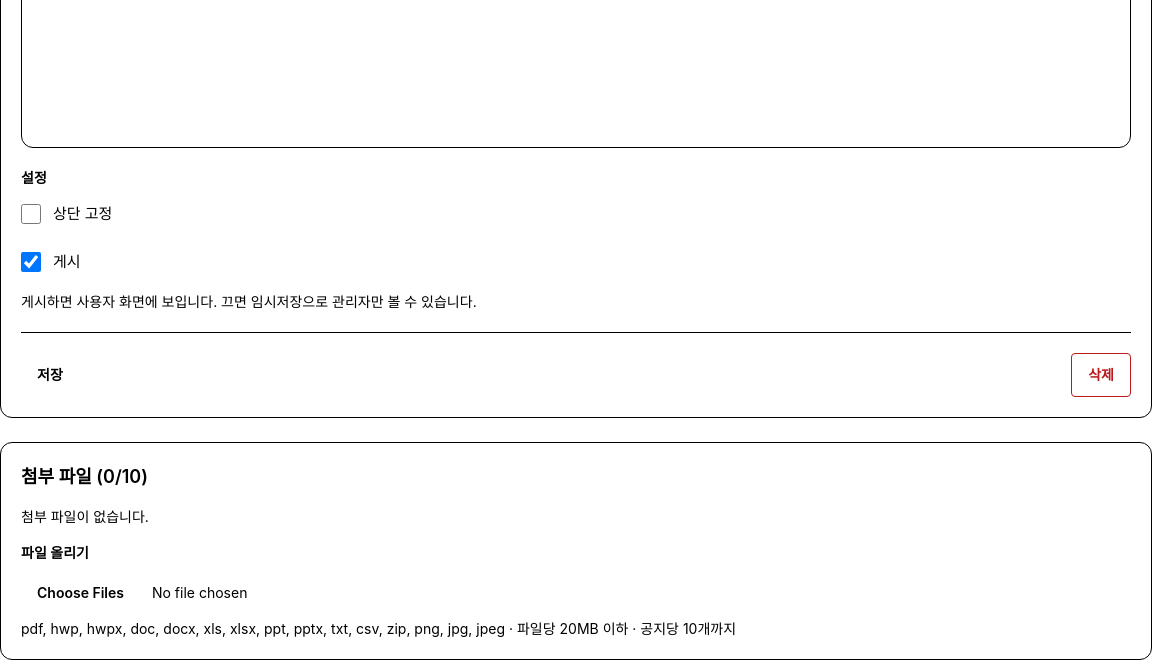
Test: NoticeForm › 삭제는 확인 후 액션을 부르고, 실패하면 문구를 보여 준다
The width and height of the screenshot is (1152, 660).
(page scrolled)
What coordinates should you click on to do the following:
click the button "삭제"
I would click on:
 (1101, 375)
Its box is [1071,353,1131,397].
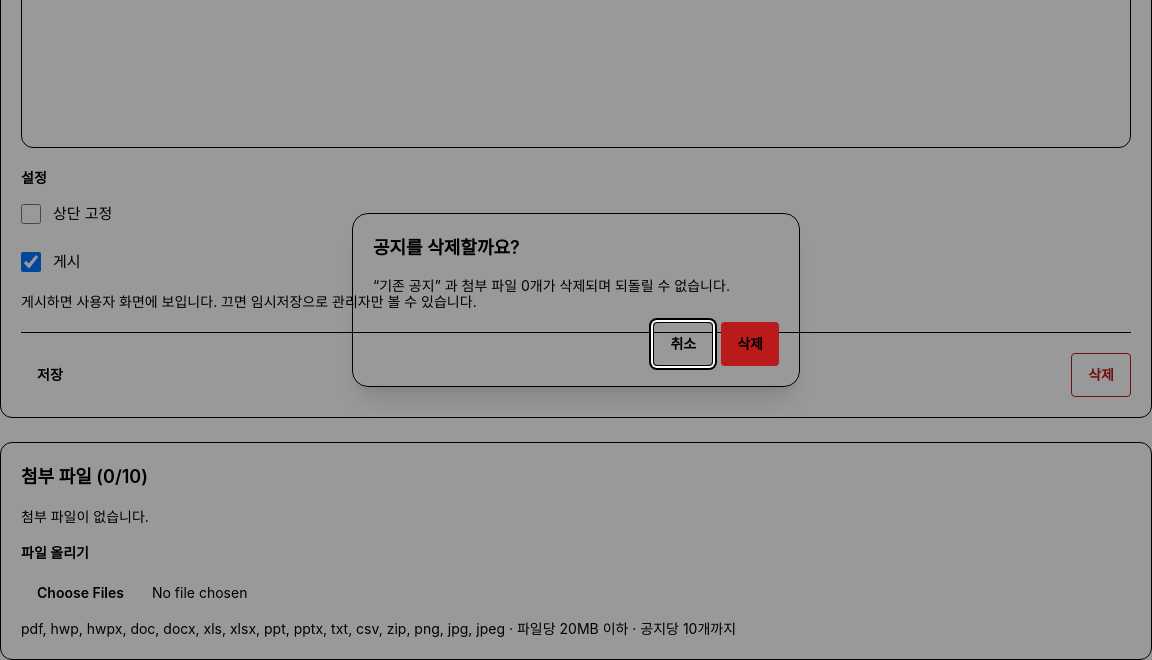
What coordinates should you click on to do the following:
click the button "삭제"
I would click on:
 (750, 344)
Its box is [721,322,779,366].
(page scrolled)
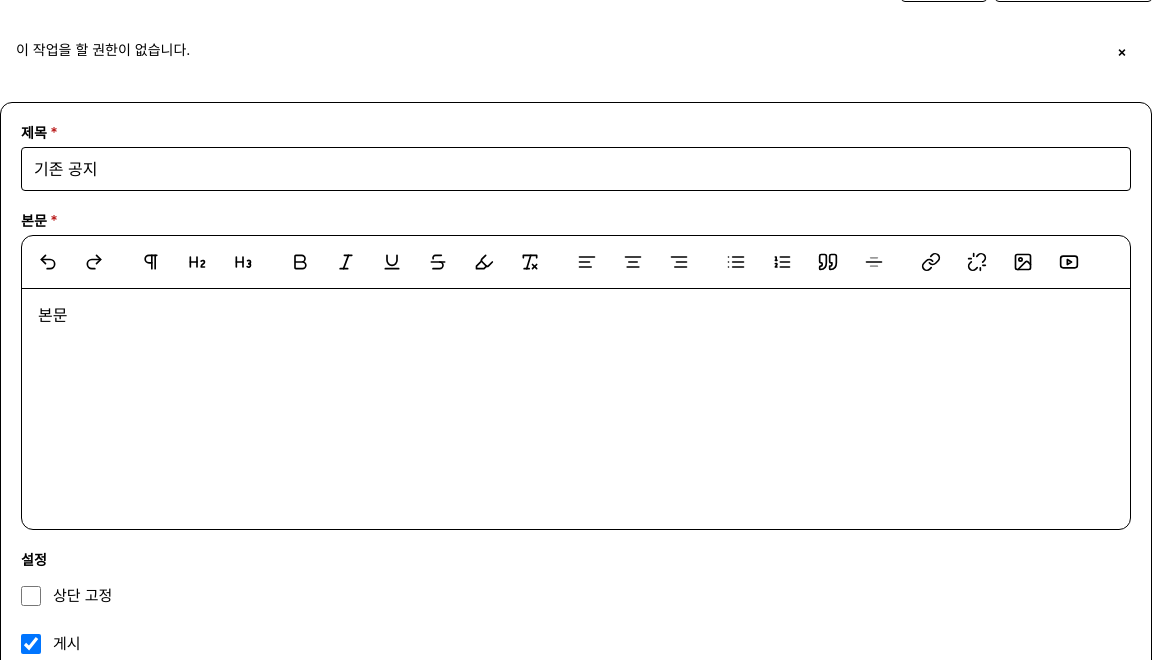
expect the text "이 작업을 할 권한이 없습니다." is shown: met, box [16,38,190,60]
